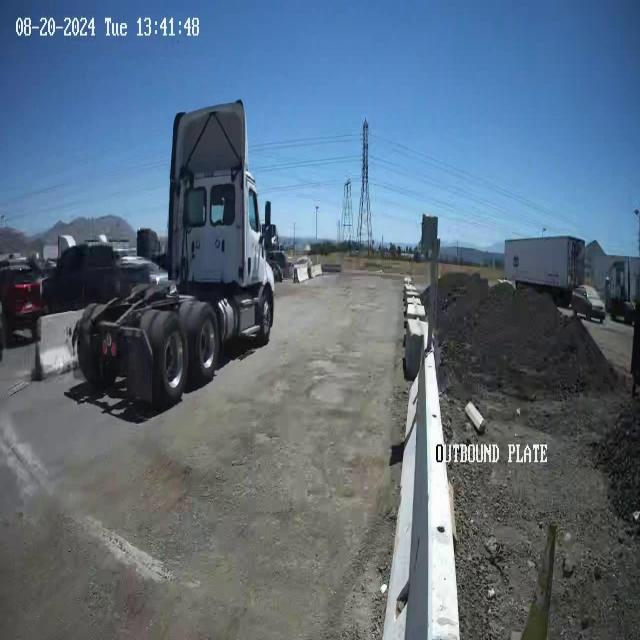BOBTAIL: (72, 97, 276, 411)
